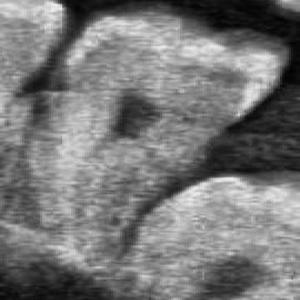tooth: (32, 4, 286, 276), (122, 170, 300, 300)
